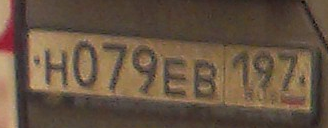character: (102, 36, 128, 94), (132, 44, 158, 98), (73, 38, 98, 90), (162, 53, 189, 100), (43, 45, 69, 89), (194, 54, 216, 101), (275, 49, 297, 93), (253, 49, 274, 94), (231, 48, 251, 91)
